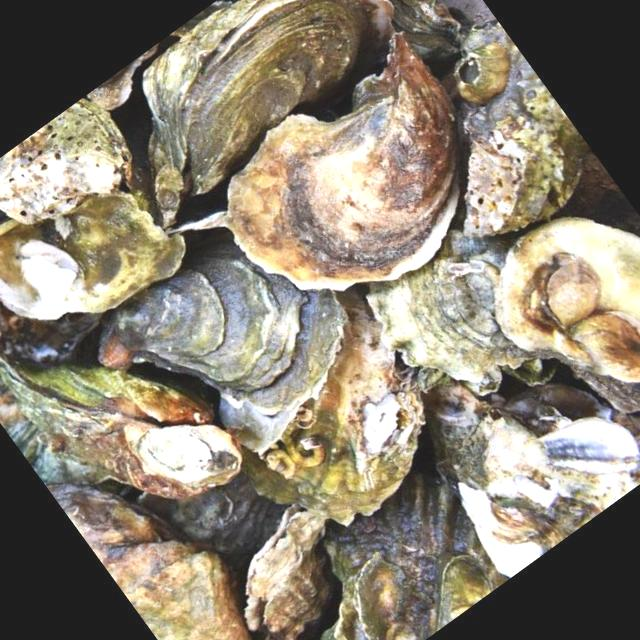Oyster-Closed: (225, 31, 459, 291), (142, 0, 392, 225), (98, 230, 340, 453), (237, 283, 421, 524), (419, 381, 639, 577), (0, 352, 242, 499), (318, 469, 510, 639), (366, 206, 540, 381), (457, 17, 583, 235), (0, 189, 184, 320), (494, 216, 639, 382), (120, 468, 292, 593), (0, 96, 128, 223), (92, 538, 249, 639), (43, 481, 183, 547), (424, 553, 493, 639), (569, 308, 639, 383), (353, 556, 415, 639), (539, 252, 601, 328)
Oyster-Open: (244, 503, 332, 639)
